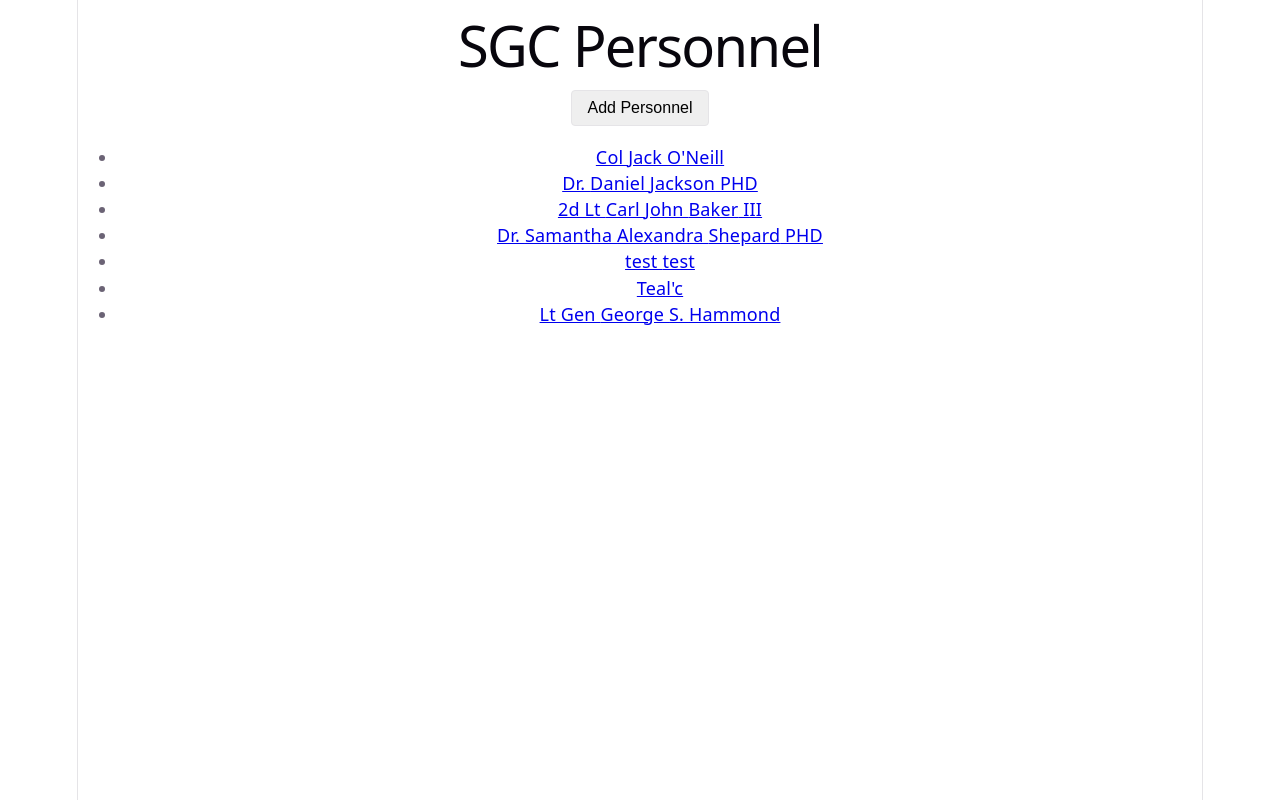
PersonnelForm (integration) › navigates to add form and show empty fields for new entries
Step 1. Click the button "Add Personnel" → (640, 108), box [570,90,710,126]
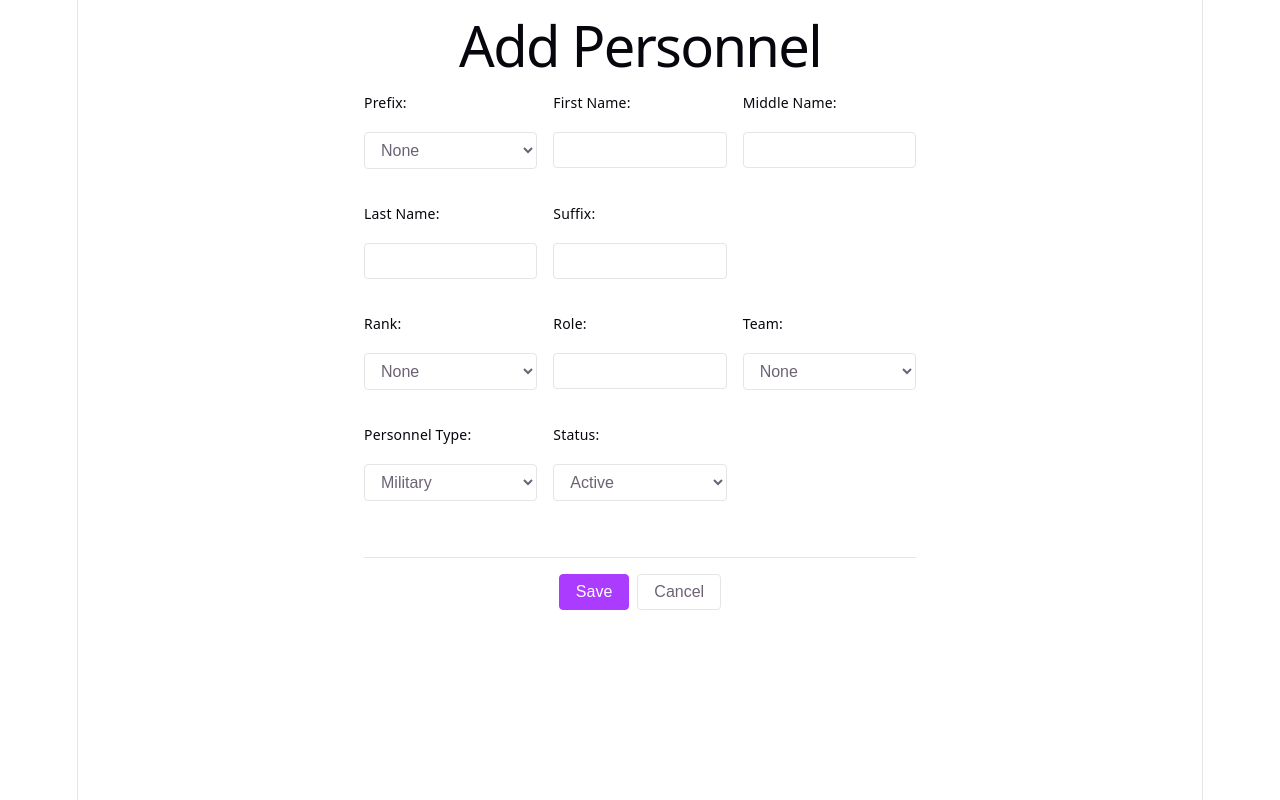
Result: the dropdown labelled "Prefix:" shows "None" at [364,132,537,169]
Result: the field labelled "First Name:" is empty at [553,132,727,168]
Result: the field labelled "Suffix:" is empty at [553,243,727,279]
